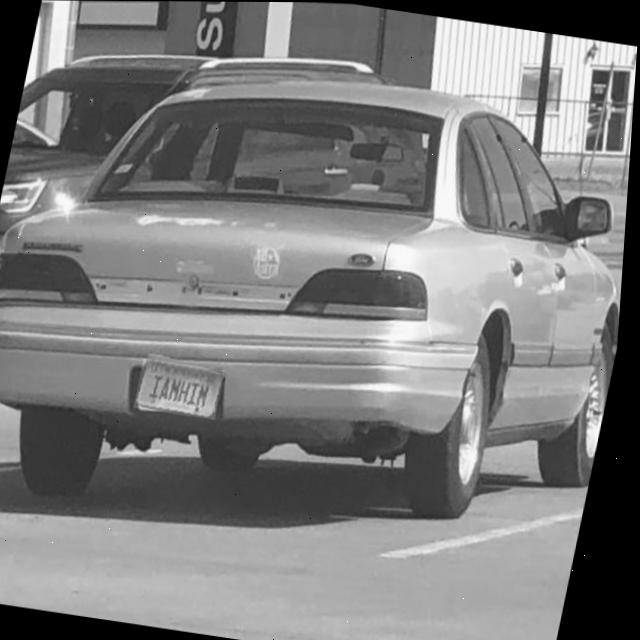LicensePlate: (140, 359, 229, 419)
